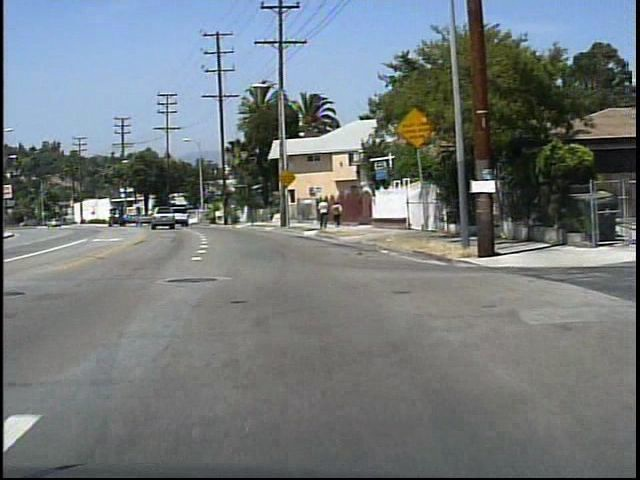person: (315, 196, 330, 231), (330, 200, 344, 229)
